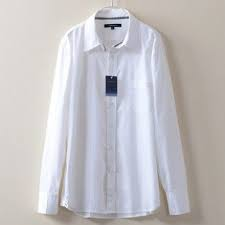S_shirt: (40, 8, 191, 219)
